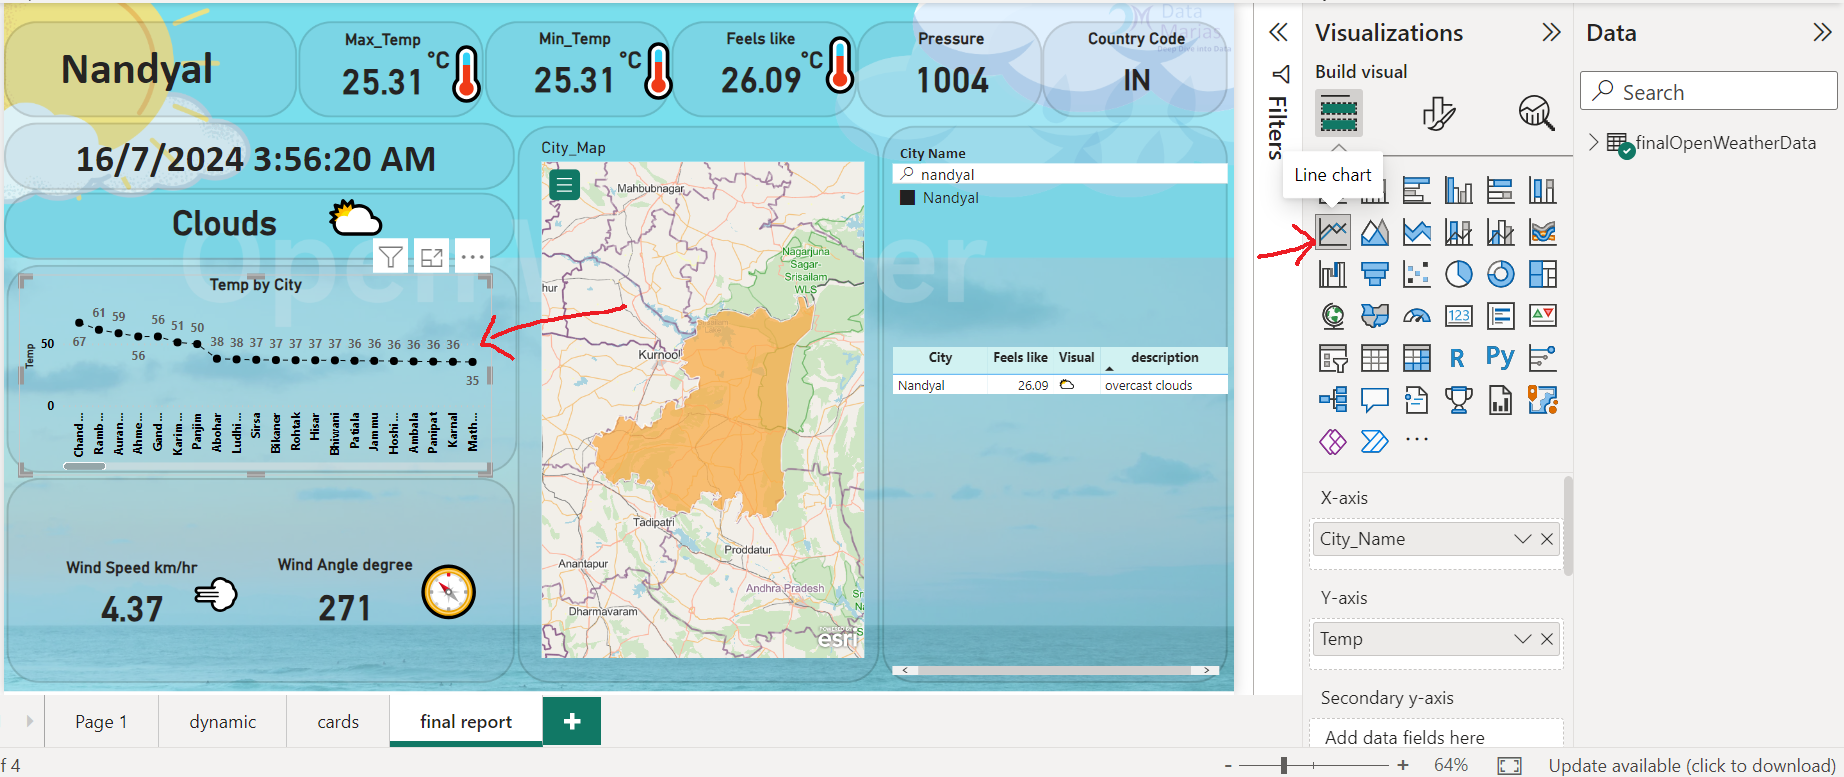

Layout of this report page (visuals, bound fields, positions):
{"tool":"powerbi","page":{"name":"final report","canvas":[1280,720],"ordinal":3},"visuals":[{"type":"card","title":"Max_Temp","fields":{"Values":["Sum(finalOpenWeatherData.main_temp_max)"]},"box":[308,28.3,173.9,81.3],"z":0},{"type":"card","title":"Min_Temp","fields":{"Values":["Sum(finalOpenWeatherData.main_temp_min)"]},"box":[508.4,26.5,173.9,81.3],"z":1000},{"type":"card","title":"Feels like","fields":{"Values":["Sum(finalOpenWeatherData.main_feels_like)"]},"box":[701.1,26.5,173.9,81.3],"z":2000},{"type":"card","title":"Pressure","fields":{"Values":["Sum(finalOpenWeatherData.main_pressure)"]},"box":[899.5,26.5,173.9,81.3],"z":3000},{"type":"card","title":"Wind Speed km/hr","fields":{"Values":["Sum(finalOpenWeatherData.wind_speed)"]},"box":[47.5,577.5,172.5,80],"z":4000},{"type":"card","fields":{"Values":["Min(finalOpenWeatherData.name)"]},"box":[0,24.6,275.9,83.2],"z":5000},{"type":"card","fields":{"Values":["Min(finalOpenWeatherData.date_time)"]},"box":[15.1,126.6,493.2,64.3],"z":6000},{"type":"slicer","fields":{"Values":["finalOpenWeatherData.name"]},"box":[920.3,139.8,359.1,194.6],"z":7000},{"type":"card","fields":{"Values":["finalOpenWeatherData.temperature"]},"box":[430.9,9.4,100.2,120.9],"z":8000},{"type":"card","fields":{"Values":["finalOpenWeatherData.temperature"]},"box":[631.2,5.7,100.2,120.9],"z":9000},{"type":"card","fields":{"Values":["finalOpenWeatherData.temperature"]},"box":[820.2,0,100.2,120.9],"z":10000},{"type":"card","fields":{"Values":["finalOpenWeatherData.degree emoji"]},"box":[421.4,24.6,60.5,66.1],"z":11000},{"type":"card","fields":{"Values":["finalOpenWeatherData.degree emoji"]},"box":[621.7,24.6,60.5,66.1],"z":12000},{"type":"card","fields":{"Values":["finalOpenWeatherData.degree emoji"]},"box":[810.7,24.6,60.5,66.1],"z":13000},{"type":"tableEx","fields":{"Values":["finalOpenWeatherData.name","Sum(finalOpenWeatherData.main_feels_like)","finalOpenWeatherData.WeatherEmoji","finalOpenWeatherData.description"]},"box":[920.3,353.4,359.1,351.5],"z":14000},{"type":"card","fields":{"Values":["finalOpenWeatherData.windspeed emoji"]},"box":[177.5,570,85,87.5],"z":15000},{"type":"lineChart","title":"Temp by City","fields":{"Category":["finalOpenWeatherData.name"],"Y":["Sum(finalOpenWeatherData.main_temp_max)"]},"box":[15,283.3,493.3,208.3],"z":16000},{"type":"card","fields":{"Values":["finalOpenWeatherData.WeatherEmoji"]},"box":[280,190.9,172.7,69.1],"z":17000},{"type":"esriVisual","title":"City_Map","fields":{"Location":["finalOpenWeatherData.name"]},"box":[554.9,140.9,345.7,546.1],"z":18000},{"type":"card","title":"Wind Angle degree","fields":{"Values":["Sum(finalOpenWeatherData.wind_deg)"]},"box":[260,575,192.5,82.5],"z":19000},{"type":"card","fields":{"Values":["finalOpenWeatherData.angle_emoji"]},"box":[395,562.5,135,95],"z":20000},{"type":"card","fields":{"Values":["Min(finalOpenWeatherData.main)"]},"box":[63.6,181.8,330.9,87.3],"z":21000},{"type":"card","title":"Country Code","fields":{"Values":["Min(finalOpenWeatherData.sys_country)"]},"box":[1100,27.3,160,83.6],"z":22000}]}

Visuals, with their boxes on the page's 1280x720 design canvas (x1, y1, x2, y2). These are canvas units, not pixel positions in the 1844x777 screenshot, which may show the page scaled, cropped or inside an application window:
"Max_Temp" card: {"left": 308, "top": 28, "right": 482, "bottom": 110}
"Min_Temp" card: {"left": 508, "top": 26, "right": 682, "bottom": 108}
"Feels like" card: {"left": 701, "top": 26, "right": 875, "bottom": 108}
"Pressure" card: {"left": 900, "top": 26, "right": 1073, "bottom": 108}
"Wind Speed km/hr" card: {"left": 48, "top": 578, "right": 220, "bottom": 658}
card - Min(finalOpenWeatherData.name): {"left": 0, "top": 25, "right": 276, "bottom": 108}
card - Min(finalOpenWeatherData.date_time): {"left": 15, "top": 127, "right": 508, "bottom": 191}
slicer - finalOpenWeatherData.name: {"left": 920, "top": 140, "right": 1279, "bottom": 334}
card - finalOpenWeatherData.temperature: {"left": 431, "top": 9, "right": 531, "bottom": 130}
card - finalOpenWeatherData.temperature: {"left": 631, "top": 6, "right": 731, "bottom": 127}
card - finalOpenWeatherData.temperature: {"left": 820, "top": 0, "right": 920, "bottom": 121}
card - finalOpenWeatherData.degree emoji: {"left": 421, "top": 25, "right": 482, "bottom": 91}
card - finalOpenWeatherData.degree emoji: {"left": 622, "top": 25, "right": 682, "bottom": 91}
card - finalOpenWeatherData.degree emoji: {"left": 811, "top": 25, "right": 871, "bottom": 91}
tableEx - finalOpenWeatherData.name x Sum(finalOpenWeatherData.main_feels_like): {"left": 920, "top": 353, "right": 1279, "bottom": 705}
card - finalOpenWeatherData.windspeed emoji: {"left": 178, "top": 570, "right": 262, "bottom": 658}
"Temp by City" lineChart: {"left": 15, "top": 283, "right": 508, "bottom": 492}
card - finalOpenWeatherData.WeatherEmoji: {"left": 280, "top": 191, "right": 453, "bottom": 260}
"City_Map" esriVisual: {"left": 555, "top": 141, "right": 901, "bottom": 687}
"Wind Angle degree" card: {"left": 260, "top": 575, "right": 452, "bottom": 658}
card - finalOpenWeatherData.angle_emoji: {"left": 395, "top": 562, "right": 530, "bottom": 658}
card - Min(finalOpenWeatherData.main): {"left": 64, "top": 182, "right": 394, "bottom": 269}
"Country Code" card: {"left": 1100, "top": 27, "right": 1260, "bottom": 111}
